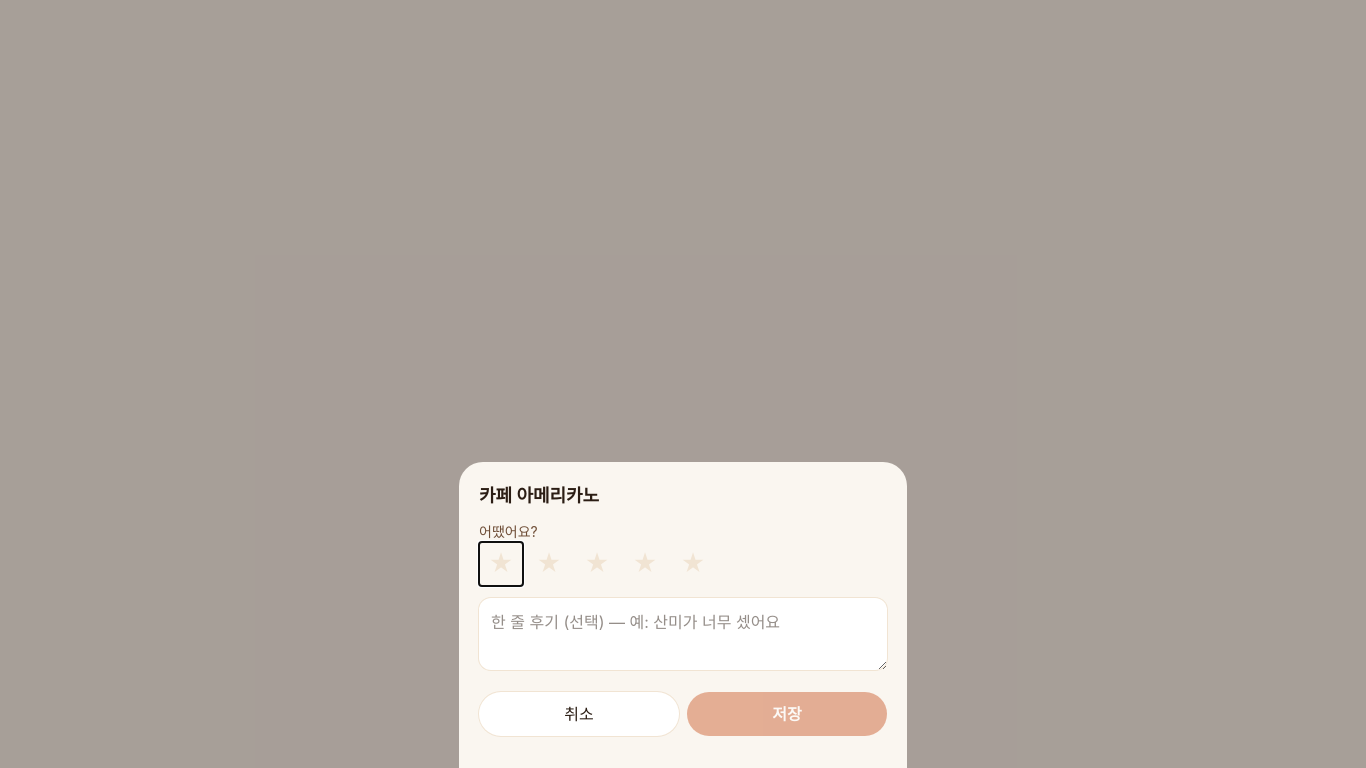
Test: LogSheet › requires a rating, posts the tasting and shows the change summary
The width and height of the screenshot is (1366, 768).
Expected: the button "저장" is disabled, 687,692 -> 887,736
Step 1. Click the button named "4점" → click(645, 564), box 623,542 -> 667,586
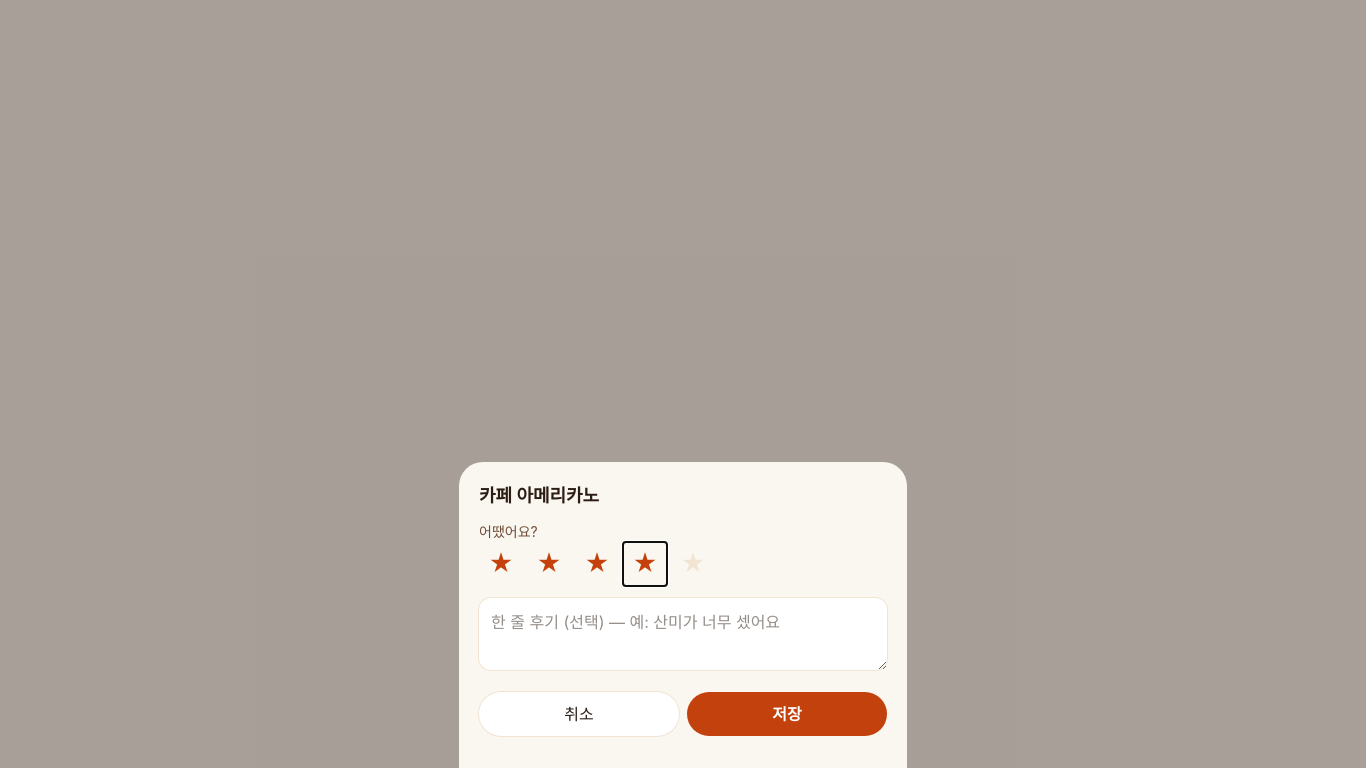
Step 2. Type "산미가 너무 셌어요" into the text box → (683, 634), box 479,598 -> 887,670
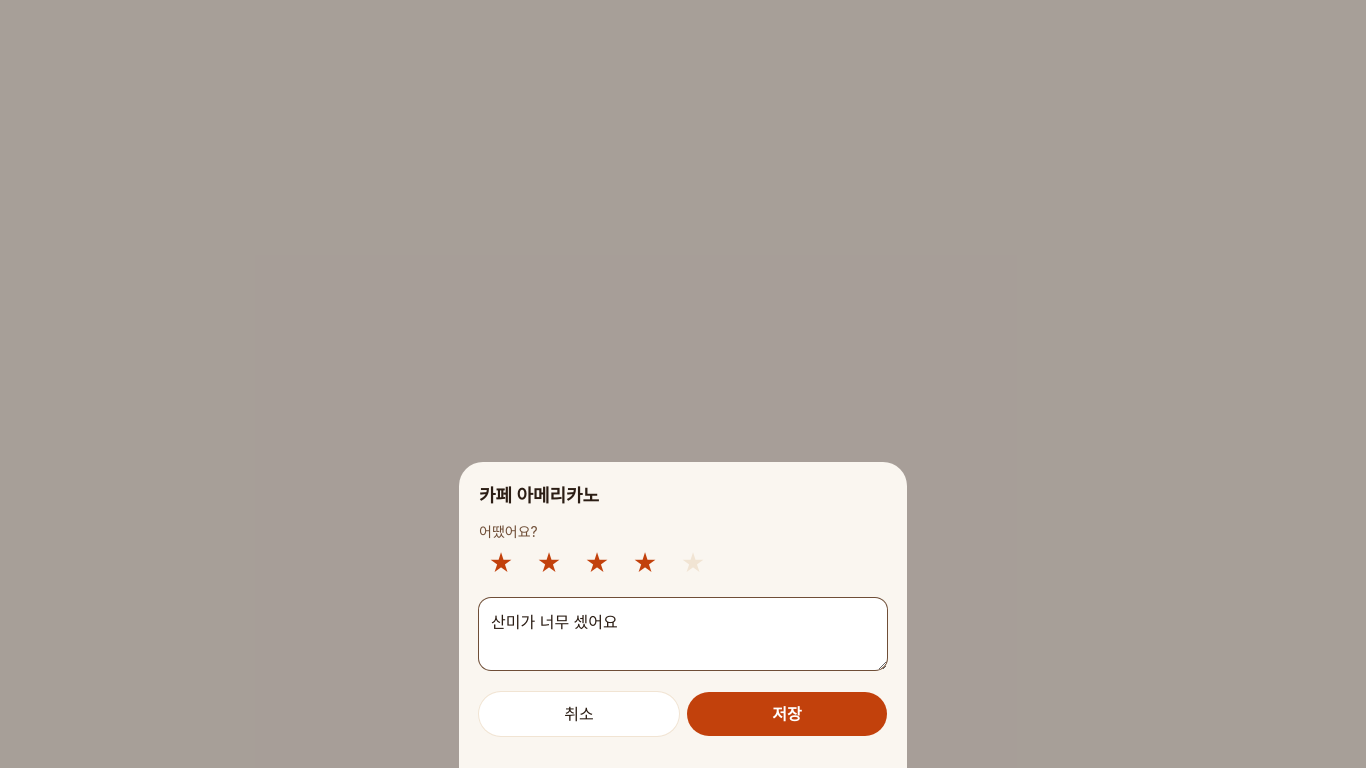
Step 3. Click the button "저장" → click(787, 714), box 687,692 -> 887,736
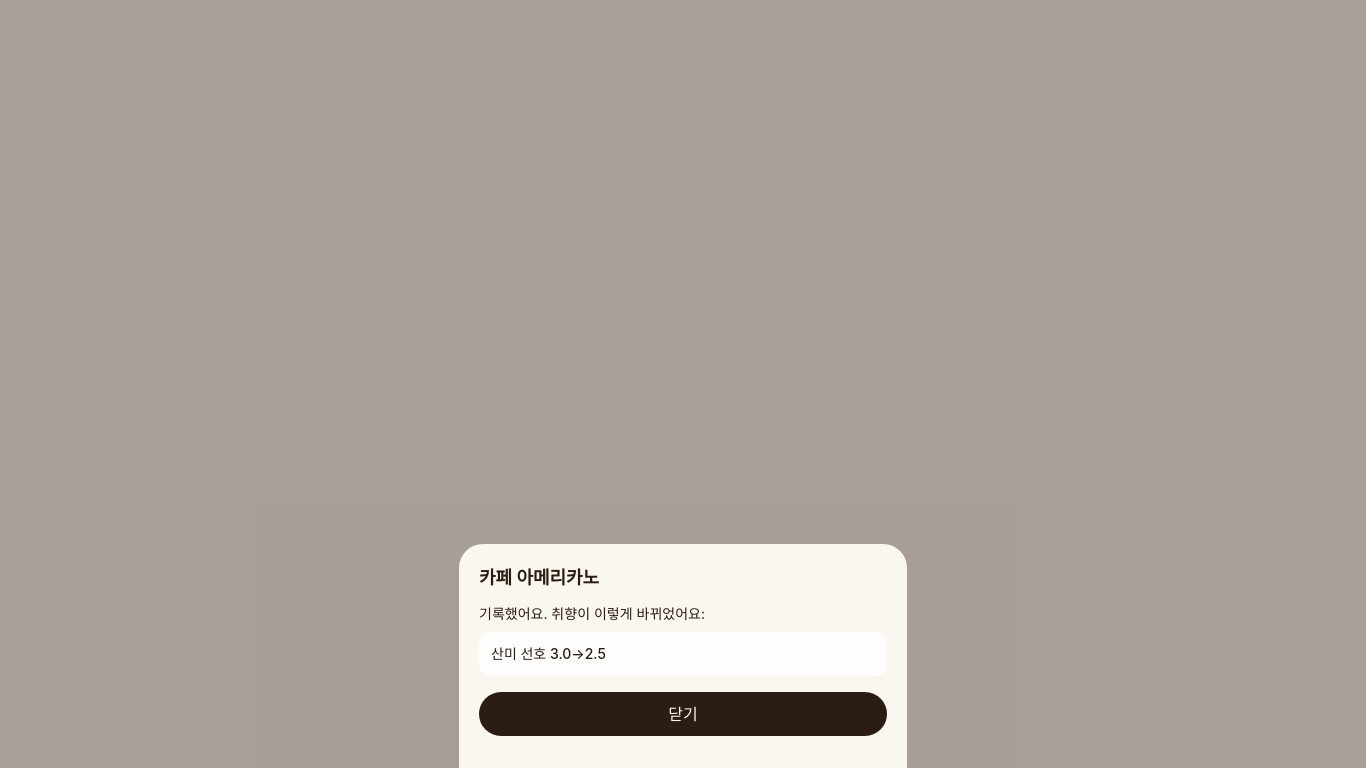
Result: the text "산미 선호 3.0→2.5" is shown at 479,632 -> 887,676
